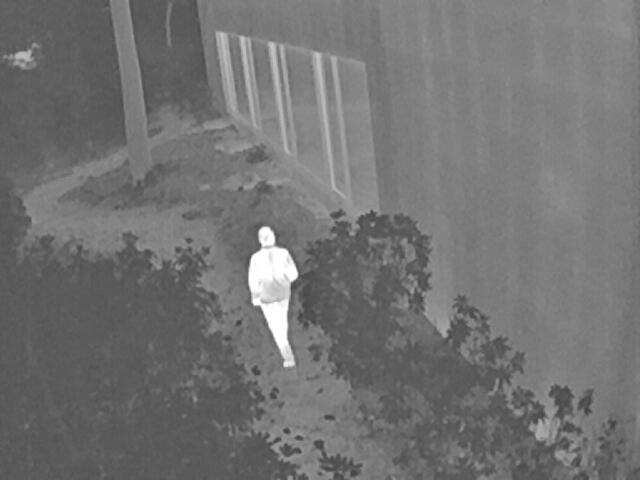person: (247, 226, 298, 365)
